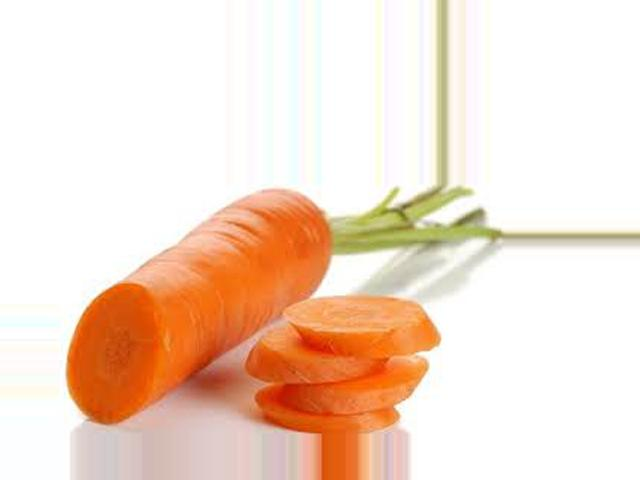carrot: (82, 186, 334, 410)
